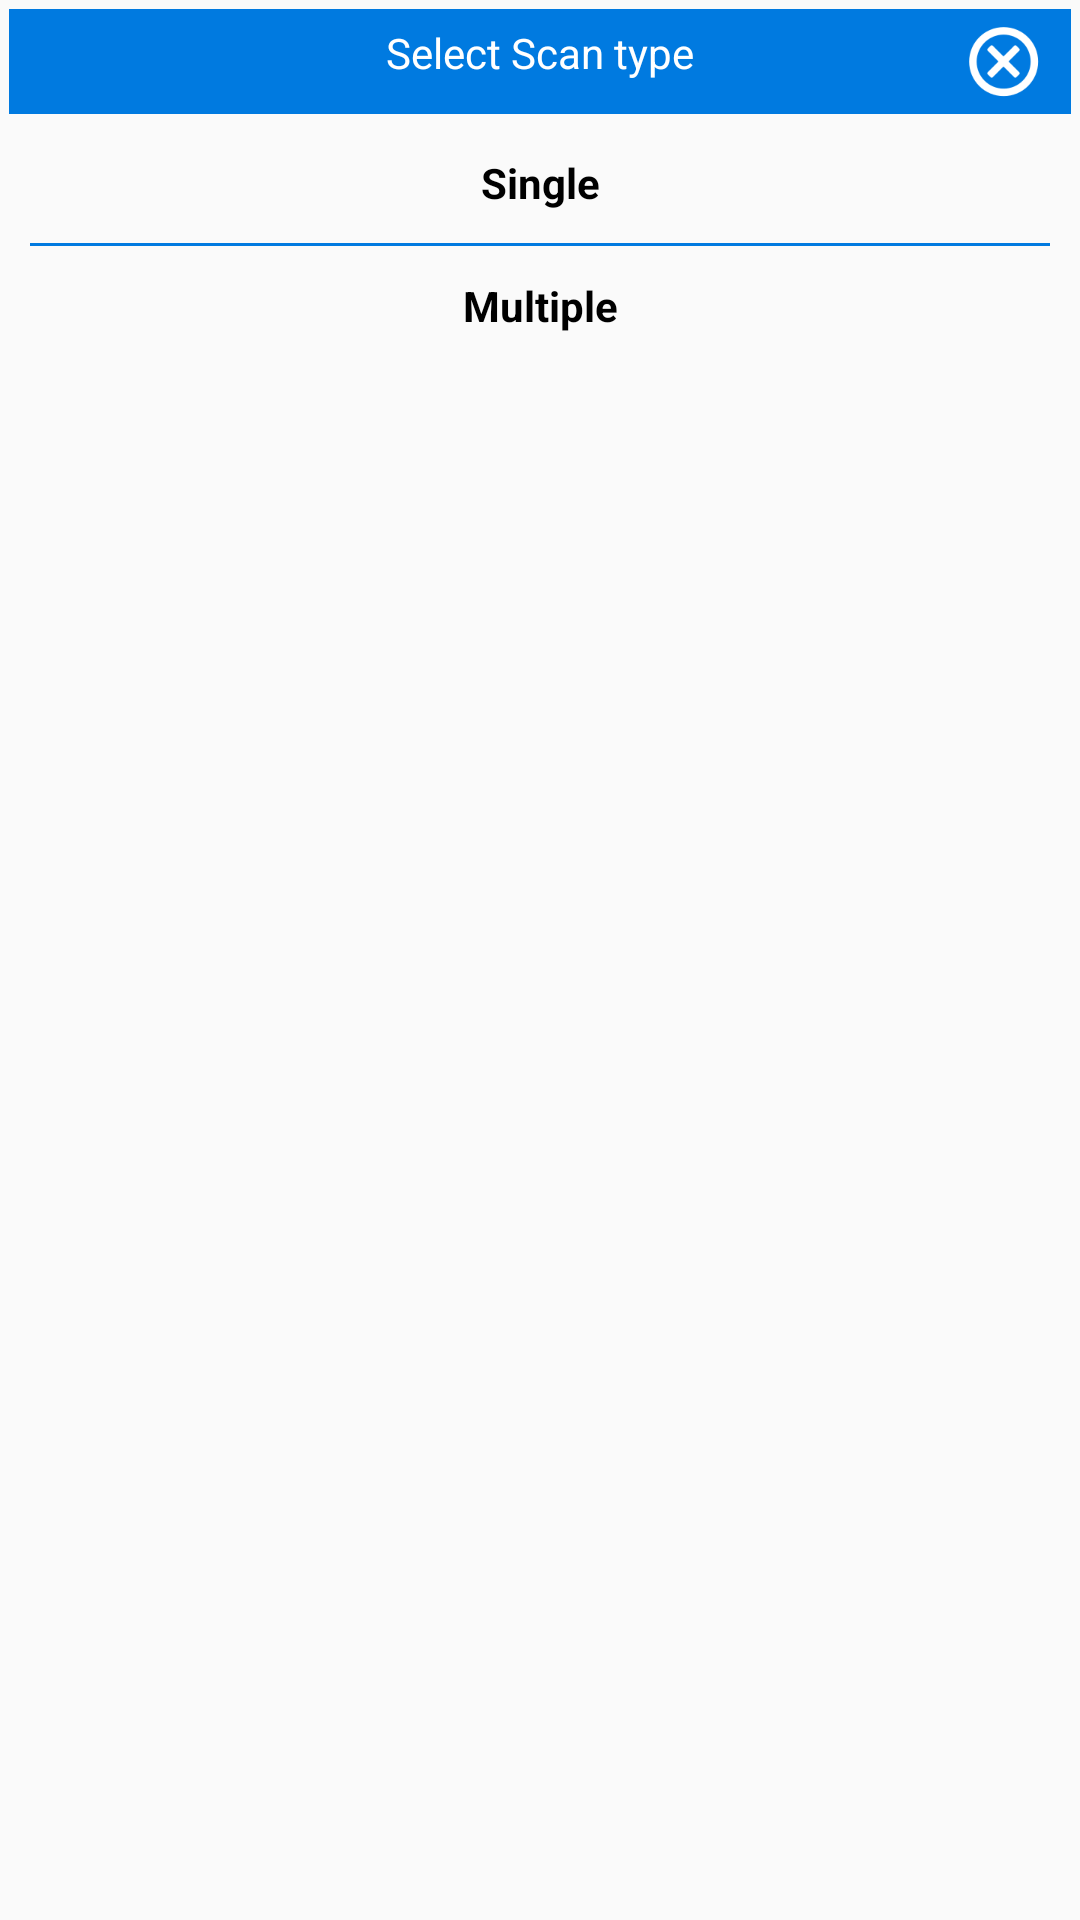

Named icons in this screenshot (1080 x 1920) and their centers, (x,y):
cancel: (1004,62)
